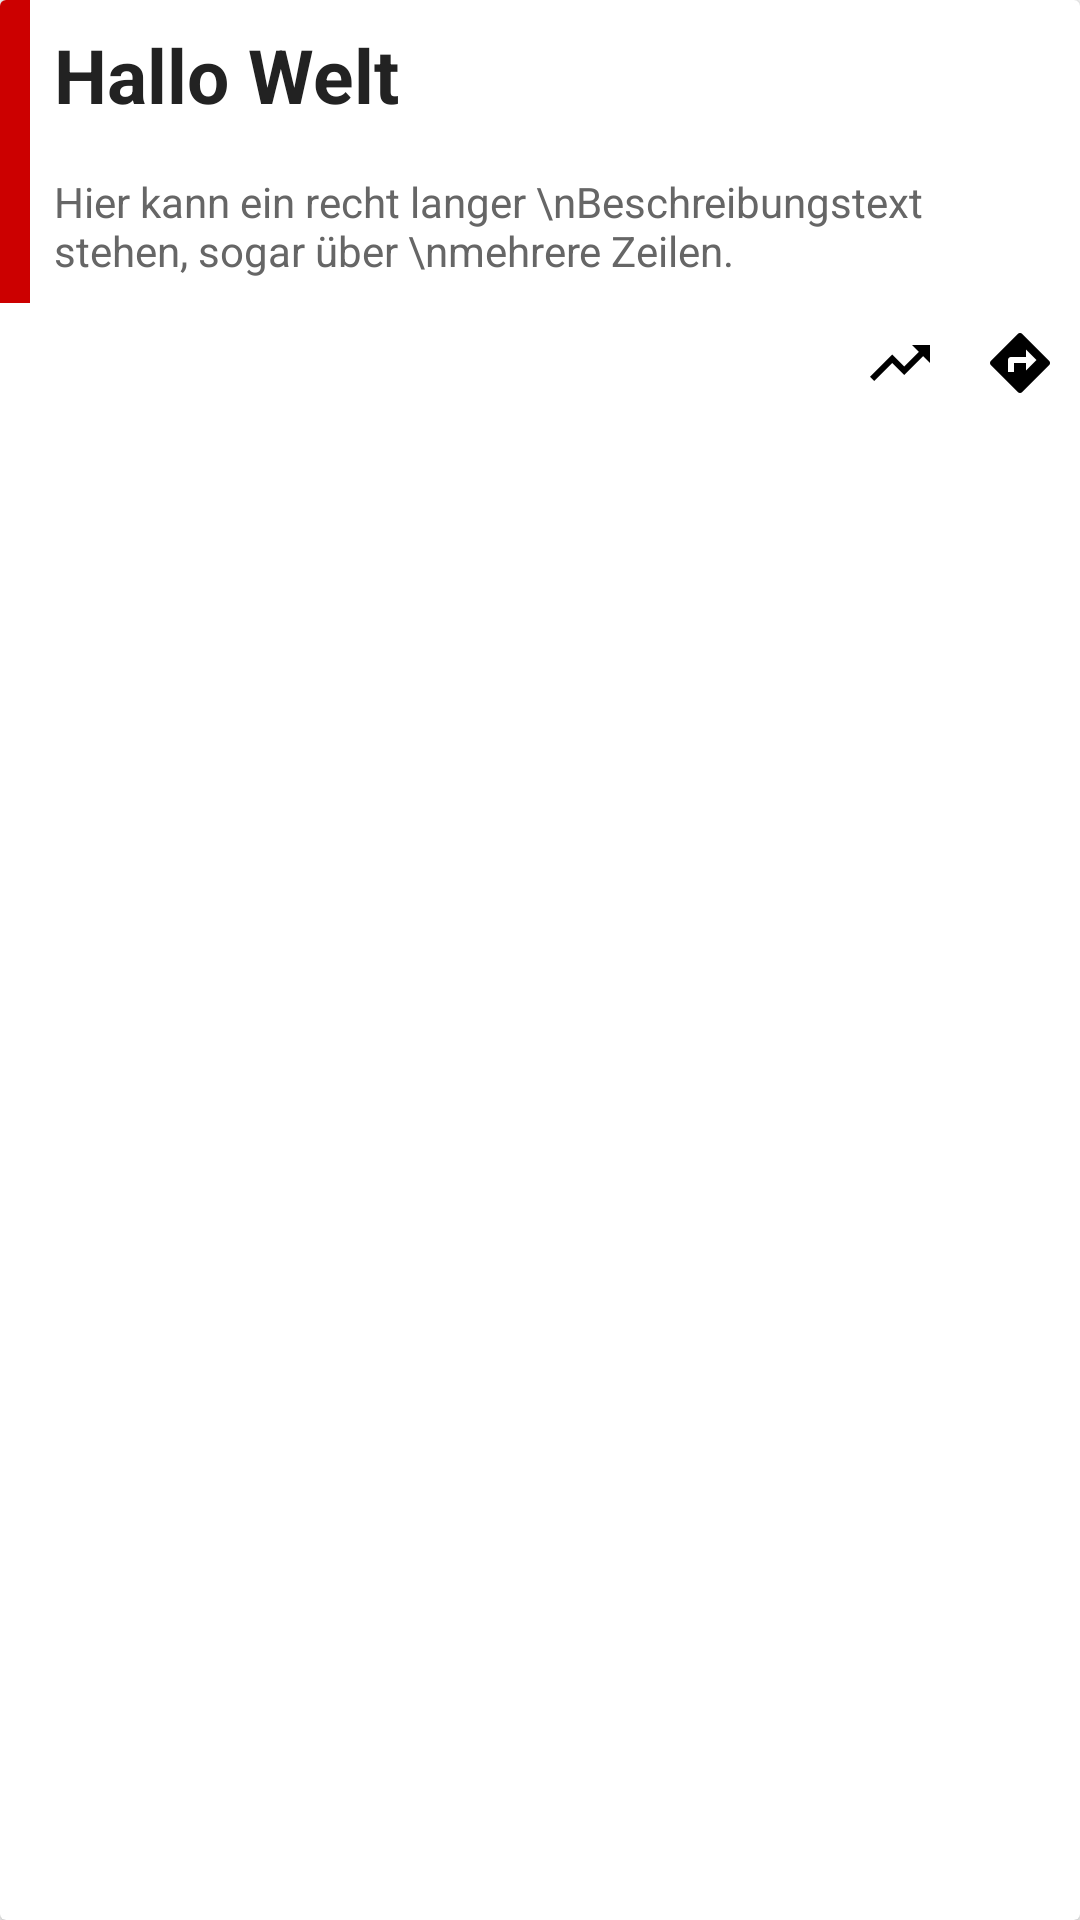

Point at icon controls on the screen. Image size 1080px x 1920px, points as (x=x, y=y).
maps directions: (x=1020, y=363)
trending up: (x=900, y=363)
